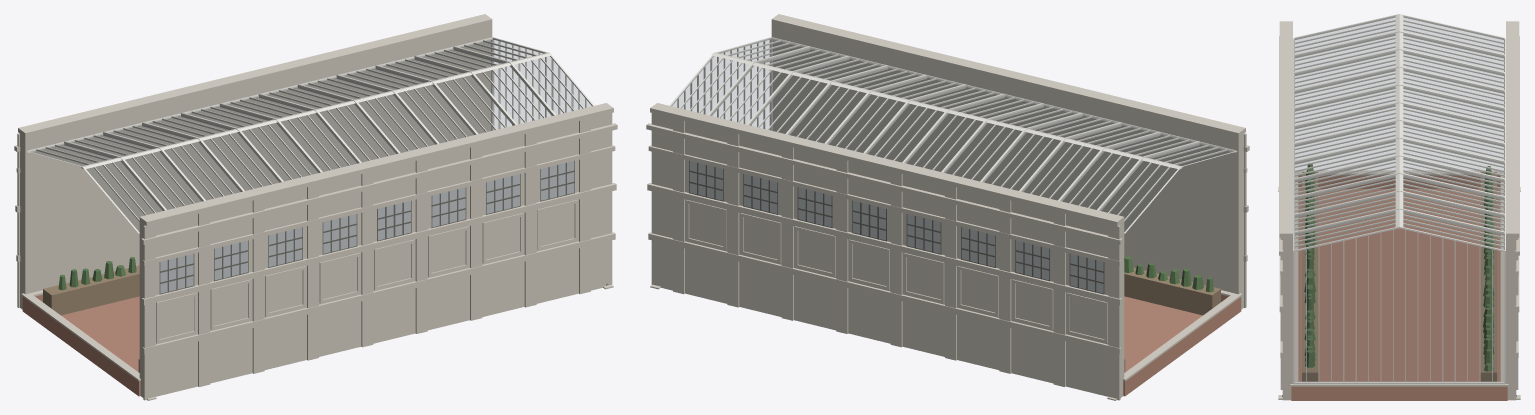
File: pullman_glasshouse_1800_calumet_east__as_standing_1904.glb
3 renders of one model, left to right at view 1: azimuth 30°, elevation 25°; view 2: azimuth 150°, elevation 25°; view 3: azimuth 270°, elevation 25°, orthographic. The views are drawn at different scales.
Visible parts, largest first — view 1: pullman_glasshouse_1800_calumet_east__as_standing_1904; view 2: pullman_glasshouse_1800_calumet_east__as_standing_1904; view 3: pullman_glasshouse_1800_calumet_east__as_standing_1904.
Part boxes in pixels (left/top/right/bottom): pullman_glasshouse_1800_calumet_east__as_standing_1904: left=14, top=14, right=617, bottom=400; pullman_glasshouse_1800_calumet_east__as_standing_1904: left=646, top=14, right=1249, bottom=400; pullman_glasshouse_1800_calumet_east__as_standing_1904: left=1278, top=14, right=1520, bottom=400.
Bounding box in the file's own units: 17.08 × 6.44 × 8.12.
